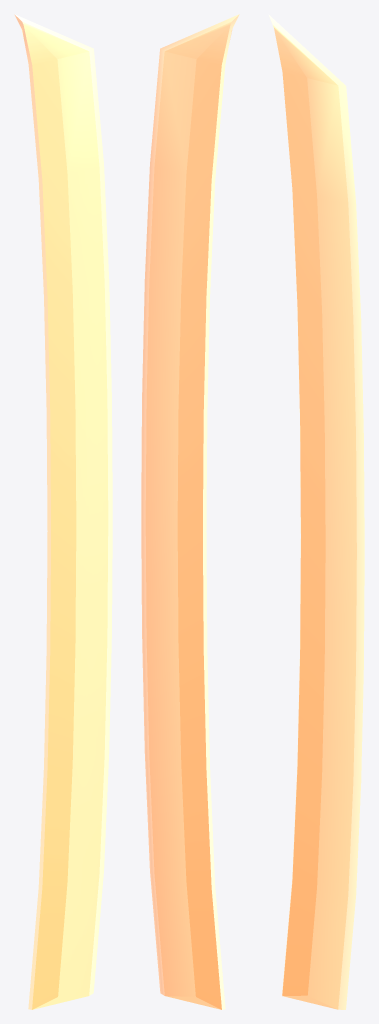
File: wood_blade (6).glb
3 views of the same model, side by side, from view 1: azimuth 30°, elevation 25°; view 2: azimuth 150°, elevation 25°; view 3: azimuth 330°, elevation 25° (orthographic). The views are drawn at different scales.
Visible parts, largest first — view 1: wood_blade_steel.080; view 2: wood_blade_steel.080; view 3: wood_blade_steel.080.
Boxes of the visible parts, box(x1,y1,x2,y2) form: wood_blade_steel.080: box(14, 14, 112, 1009); wood_blade_steel.080: box(141, 14, 239, 1009); wood_blade_steel.080: box(268, 14, 364, 1009).
Size of the model in its own units: 1.22 by 11.77 by 0.0749.
1 material, 1 textured.
